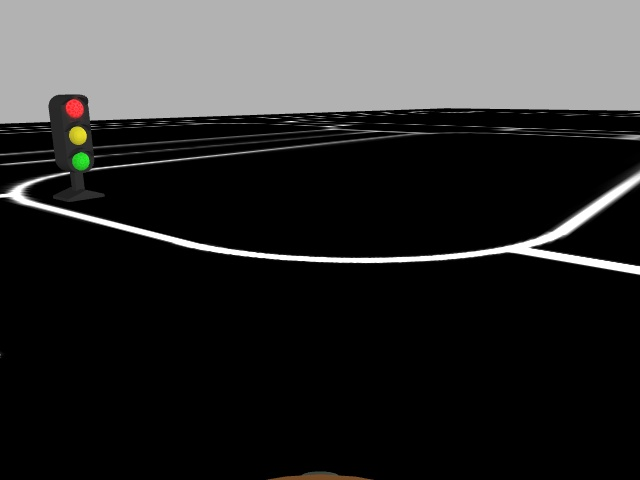red_light: (51, 93, 97, 173)
